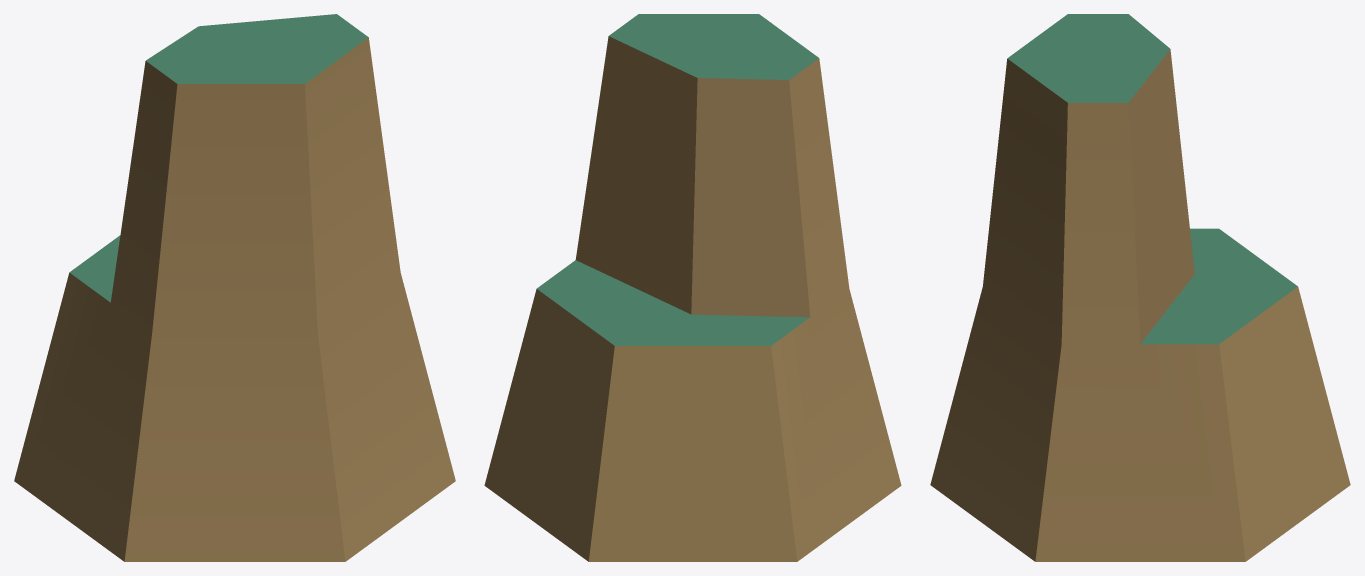
Rendered from naturePack_133.obj.
3 views of the same model, side by side, from view 1: azimuth 30°, elevation 25°; view 2: azimuth 150°, elevation 25°; view 3: azimuth 270°, elevation 25° (orthographic). The views are drawn at different scales.
Visible parts, largest first — view 1: Mesh1_Tall_Rock_1_Model.001; view 2: Mesh1_Tall_Rock_1_Model.001; view 3: Mesh1_Tall_Rock_1_Model.001.
Boxes of the visible parts, <box> form: Mesh1_Tall_Rock_1_Model.001: <box>14,14,455,561</box>; Mesh1_Tall_Rock_1_Model.001: <box>484,14,901,561</box>; Mesh1_Tall_Rock_1_Model.001: <box>930,14,1350,561</box>.
Size of the model in its own units: 1.23 by 1.59 by 1.42.
